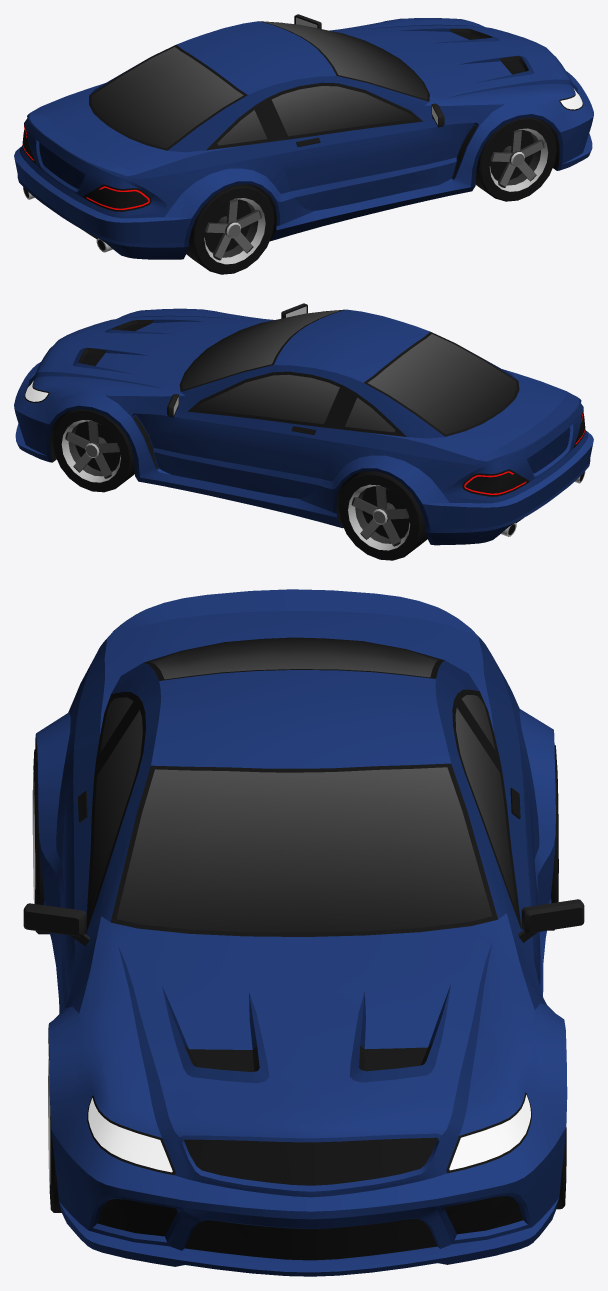
Rendered from Car_201.glb.
3 views of the same model, one above another, from view 1: azimuth 30°, elevation 25°; view 2: azimuth 150°, elevation 25°; view 3: azimuth 270°, elevation 25° (orthographic). The views are drawn at different scales.
Parts seen in each view (by area): view 1: Car_201, wheel_3_Car_201_Wheel_2R, wheel_1_Car_201_Wheel_1R; view 2: Car_201, wheel_2_Car_201_Wheel_2L, wheel_0_Car_201_Wheel_1L; view 3: Car_201, wheel_3_Car_201_Wheel_2R.
Part boxes in pixels (x1=…): Car_201: x1=14, y1=14, x2=593, y2=259; wheel_3_Car_201_Wheel_2R: x1=186, y1=184, x2=274, y2=274; wheel_1_Car_201_Wheel_1R: x1=475, y1=117, x2=556, y2=201; Car_201: x1=14, y1=303, x2=593, y2=545; wheel_2_Car_201_Wheel_2L: x1=338, y1=471, x2=427, y2=560; wheel_0_Car_201_Wheel_1L: x1=53, y1=409, x2=134, y2=492; Car_201: x1=23, y1=589, x2=584, y2=1276; wheel_3_Car_201_Wheel_2R: x1=32, y1=747, x2=49, y2=934.
Size of the model in its own units: 4.39 by 1.23 by 2.05.
2 materials, 2 textured.
